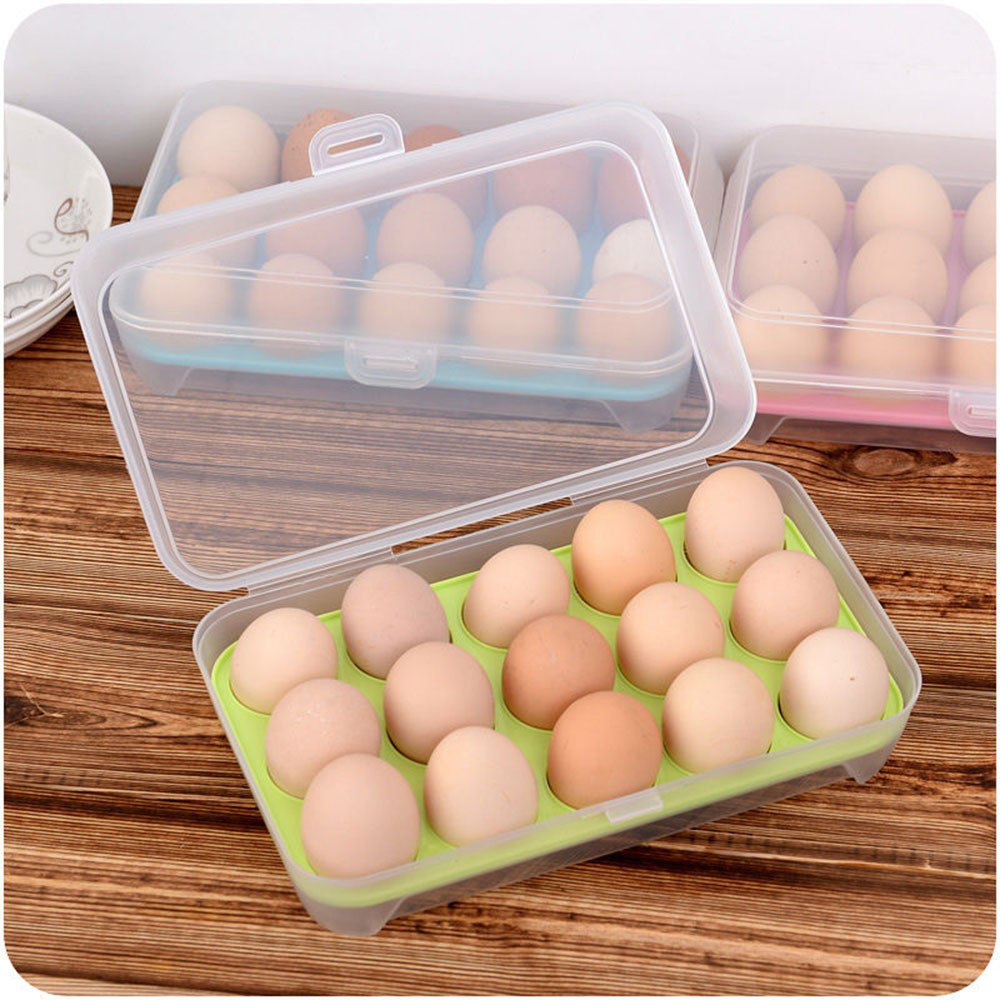egg: (222, 460, 891, 872), (143, 104, 693, 367), (741, 167, 991, 397)
